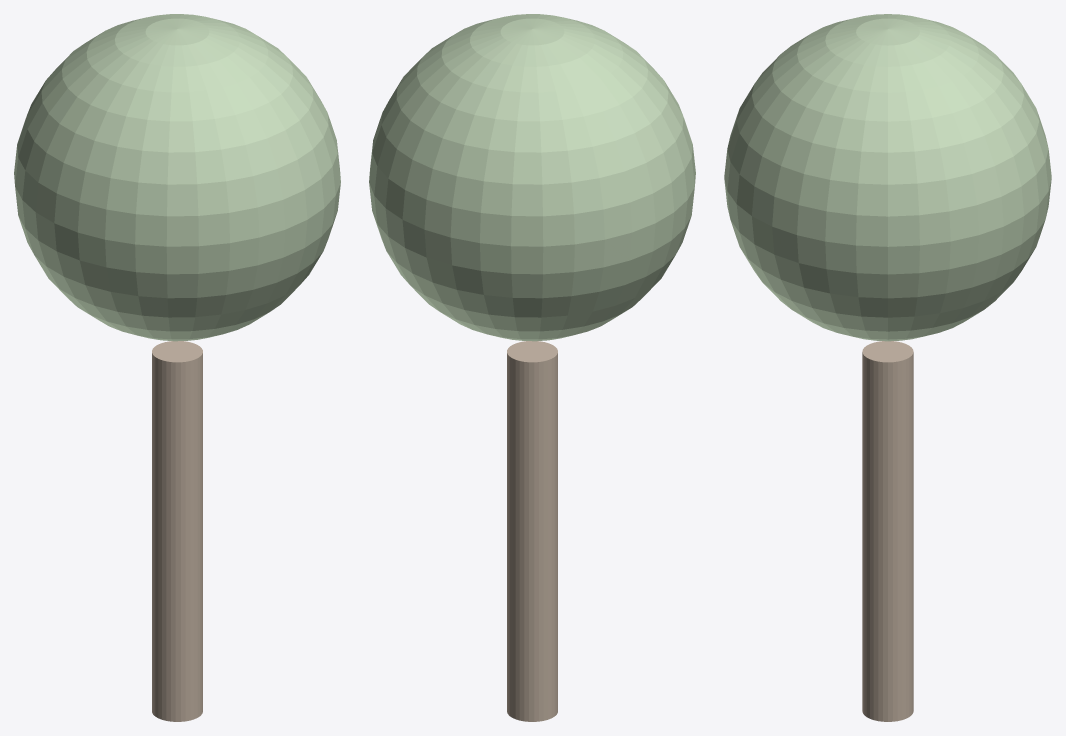
The model's file is MOD_TREE_EUCALYPTUS_STANDARD_001_LOD_GAMEPLAY.glb.
3 views of the same model, side by side, from view 1: azimuth 30°, elevation 25°; view 2: azimuth 150°, elevation 25°; view 3: azimuth 270°, elevation 25° (orthographic).
Parts seen in each view (by area): view 1: MOD_TREE_EUCALYPTUS_STANDARD_001_GAMEPLAY_CANOPY, MOD_TREE_EUCALYPTUS_STANDARD_001_GAMEPLAY_TRUNK; view 2: MOD_TREE_EUCALYPTUS_STANDARD_001_GAMEPLAY_CANOPY, MOD_TREE_EUCALYPTUS_STANDARD_001_GAMEPLAY_TRUNK; view 3: MOD_TREE_EUCALYPTUS_STANDARD_001_GAMEPLAY_CANOPY, MOD_TREE_EUCALYPTUS_STANDARD_001_GAMEPLAY_TRUNK.
Boxes of the visible parts, box(x1,y1,x2,y2) form: MOD_TREE_EUCALYPTUS_STANDARD_001_GAMEPLAY_CANOPY: box(14, 14, 340, 341); MOD_TREE_EUCALYPTUS_STANDARD_001_GAMEPLAY_TRUNK: box(152, 341, 202, 721); MOD_TREE_EUCALYPTUS_STANDARD_001_GAMEPLAY_CANOPY: box(369, 14, 695, 341); MOD_TREE_EUCALYPTUS_STANDARD_001_GAMEPLAY_TRUNK: box(507, 341, 557, 721); MOD_TREE_EUCALYPTUS_STANDARD_001_GAMEPLAY_CANOPY: box(724, 14, 1051, 341); MOD_TREE_EUCALYPTUS_STANDARD_001_GAMEPLAY_TRUNK: box(862, 341, 913, 721).
Bounding box in the file's own units: 1.28 × 2.94 × 1.28.
